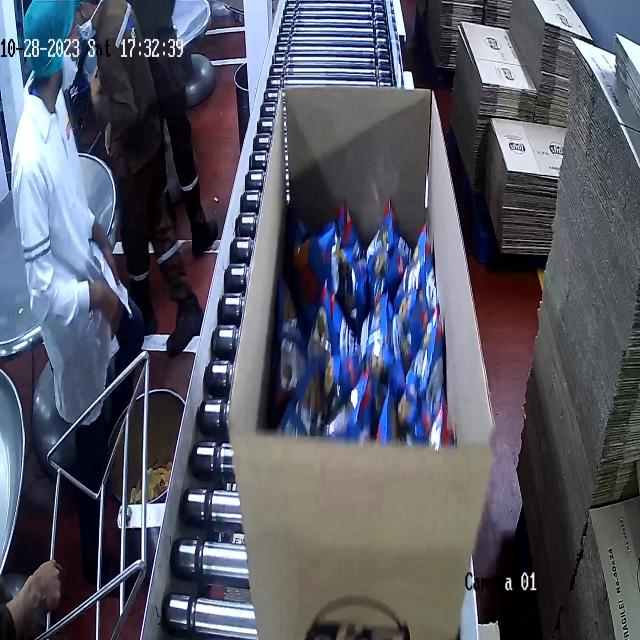PAPRIKA: (278, 199, 451, 433)
